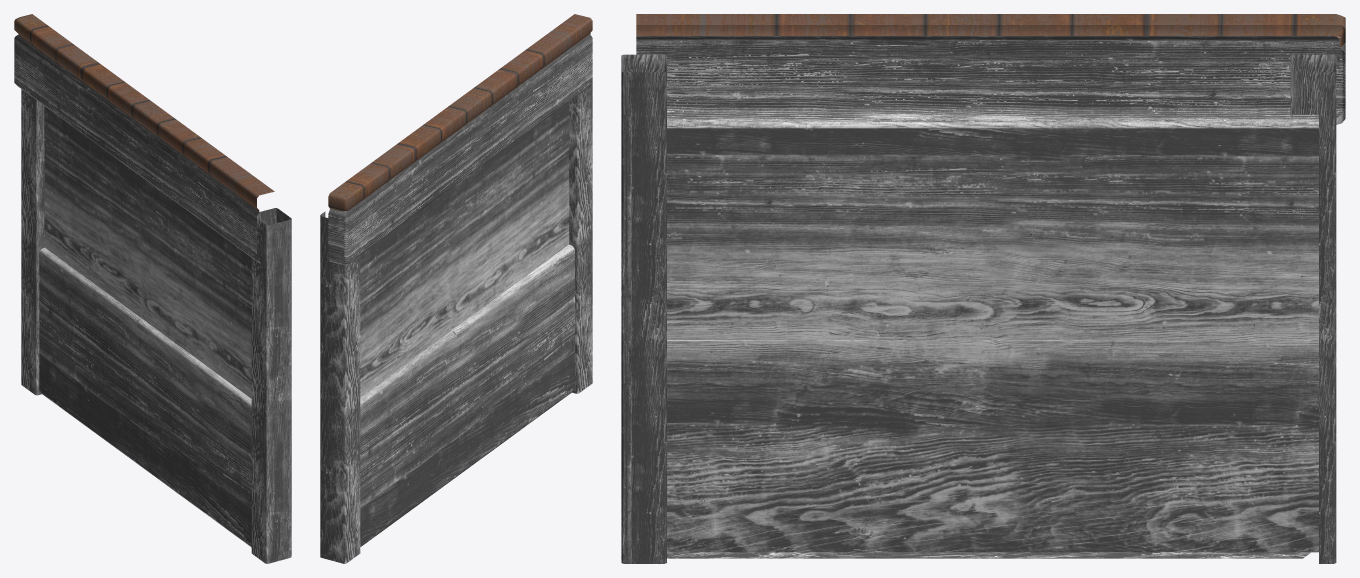
File: SM_Base_Side_B2.fbx
3 views of the same model, side by side, from view 1: azimuth 30°, elevation 25°; view 2: azimuth 150°, elevation 25°; view 3: azimuth 270°, elevation 25° (orthographic). The views are drawn at different scales.
Visible parts, largest first — view 1: SM_Base_Side_B2; view 2: SM_Base_Side_B2; view 3: SM_Base_Side_B2.
Part boxes in pixels (<box>): SM_Base_Side_B2: <box>14,14,291,563</box>; SM_Base_Side_B2: <box>320,14,592,563</box>; SM_Base_Side_B2: <box>621,14,1345,563</box>.
Size of the model in its own units: 10.18 by 146 by 118.
3 materials, 3 textured.
